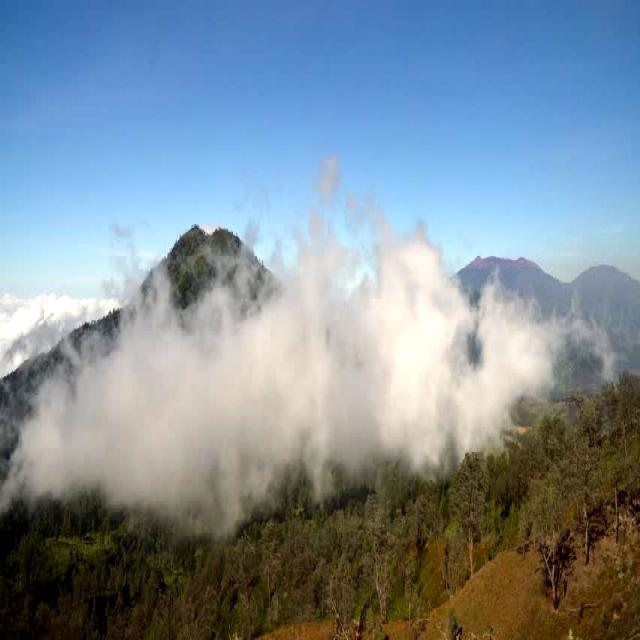Smoke: (14, 169, 564, 532)
